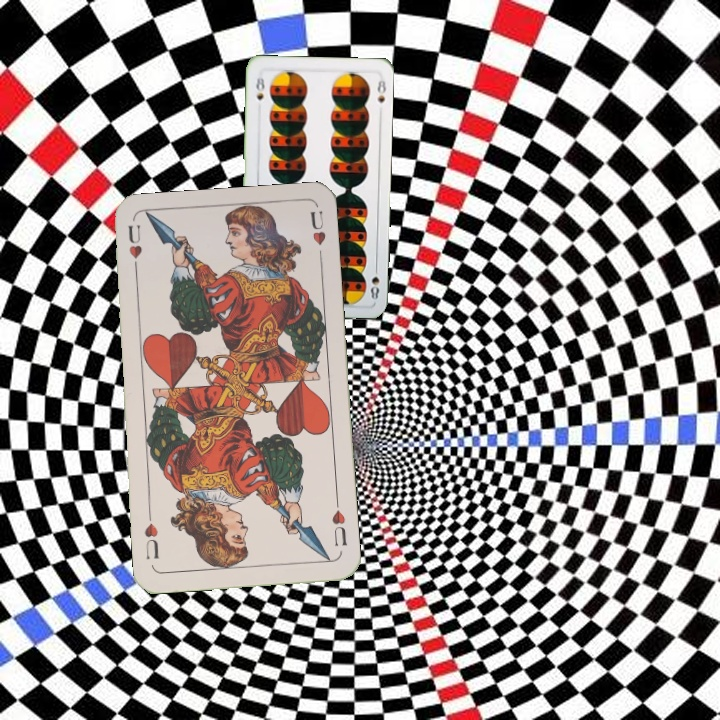HU: (124, 221, 145, 278), (328, 496, 350, 549)
S8: (367, 262, 382, 302), (252, 73, 267, 103)
